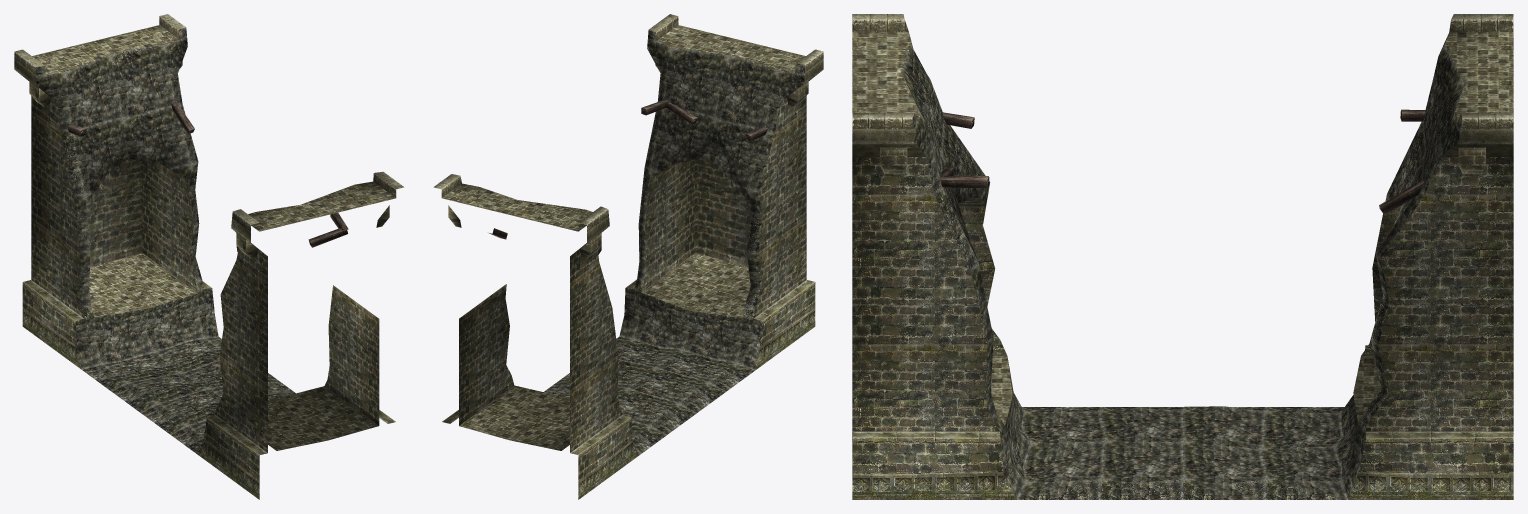
Rendered from OZ_30_kn_castle01G.glb.
3 renders of one model, left to right at view 1: azimuth 30°, elevation 25°; view 2: azimuth 150°, elevation 25°; view 3: azimuth 270°, elevation 25°, orthographic. The views are drawn at different scales.
Parts seen in each view (by area): view 1: OM_30_kn_castle01G; view 2: OM_30_kn_castle01G; view 3: OM_30_kn_castle01G.
Boxes of the visible parts, left/top/right/bottom form: OM_30_kn_castle01G: left=14, top=14, right=404, bottom=499; OM_30_kn_castle01G: left=433, top=14, right=823, bottom=499; OM_30_kn_castle01G: left=852, top=14, right=1513, bottom=499.
Bounding box in the file's own units: 9 × 15.5 × 24.
Materials: 3 (3 with a texture image).
